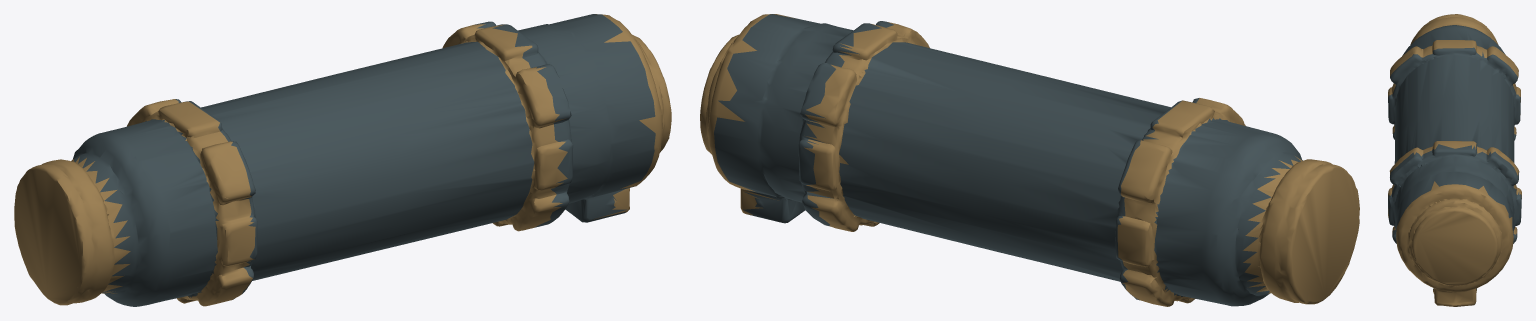
Rendered from 06_LowerService.glb.
3 views of the same model, side by side, from view 1: azimuth 30°, elevation 25°; view 2: azimuth 150°, elevation 25°; view 3: azimuth 270°, elevation 25° (orthographic). The views are drawn at different scales.
Parts seen in each view (by area): view 1: SM_TS_BrineMK1_LowerService_V02; view 2: SM_TS_BrineMK1_LowerService_V02; view 3: SM_TS_BrineMK1_LowerService_V02.
Part boxes in pixels (x1,y1,x2,y2): SM_TS_BrineMK1_LowerService_V02: (14, 14, 671, 306); SM_TS_BrineMK1_LowerService_V02: (700, 14, 1359, 306); SM_TS_BrineMK1_LowerService_V02: (1388, 14, 1521, 306).
Size of the model in its own units: 0.342 by 0.1069 by 0.102.
